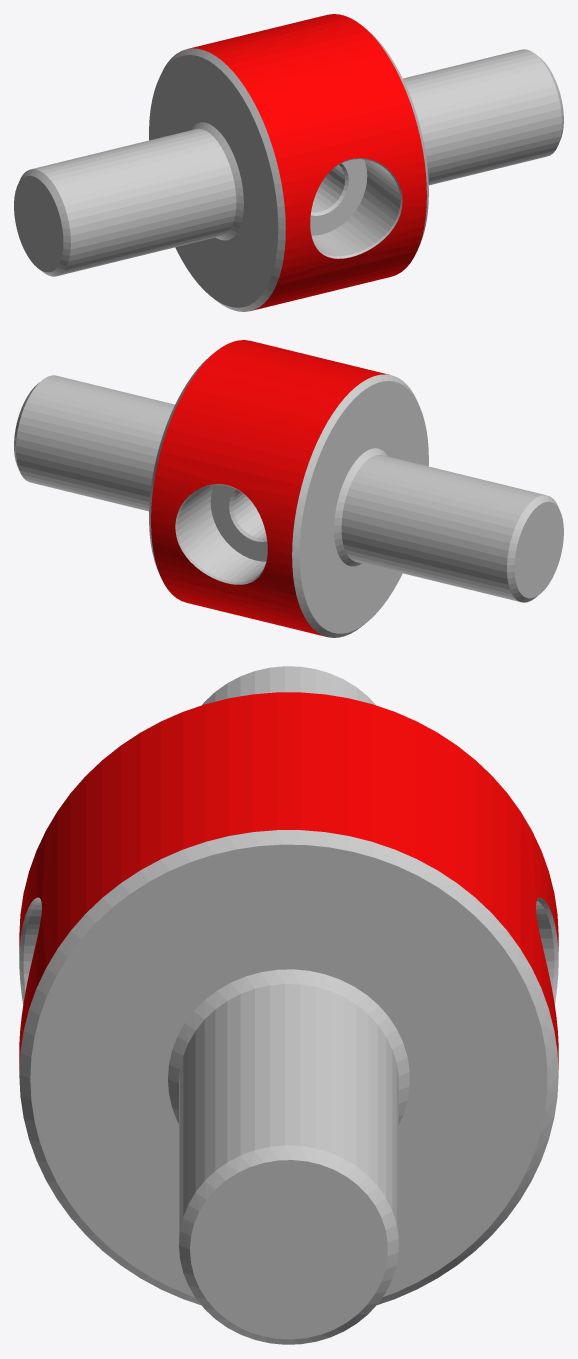
File: 14__stp_7.obj
3 renders of one model, top to bottom at view 1: azimuth 30°, elevation 25°; view 2: azimuth 150°, elevation 25°; view 3: azimuth 270°, elevation 25°, orthographic. The views are drawn at different scales.
Visible parts, largest first — view 1: Object1; view 2: Object1; view 3: Object1.
Part boxes in pixels (<box>): Object1: <box>14,14,563,311</box>; Object1: <box>14,340,563,637</box>; Object1: <box>19,666,558,1344</box>.
Size of the model in its own units: 210 by 97.9 by 98.
